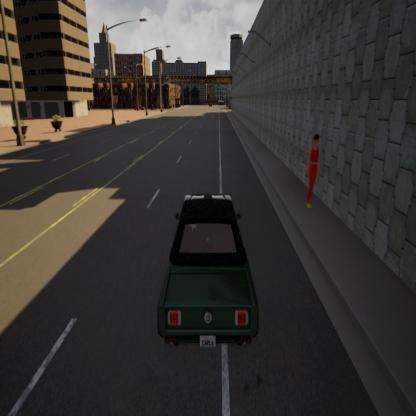Cars: (144, 175, 265, 355)
Pedestrian: (299, 119, 328, 221)
